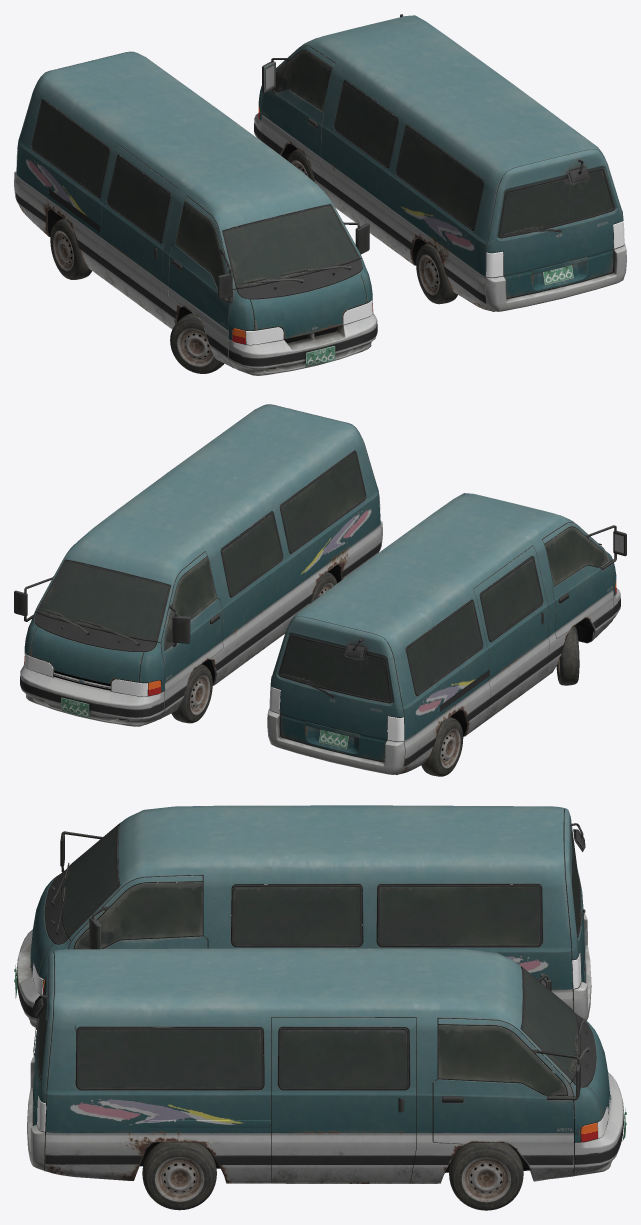
File: van.glb
3 views of the same model, one above another, from view 1: azimuth 30°, elevation 25°; view 2: azimuth 150°, elevation 25°; view 3: azimuth 270°, elevation 25° (orthographic). The views are drawn at different scales.
Parts seen in each view (by area): view 1: og.007_van.004_0, og.022_van02_0, og.009_van.004_0, og.023_van02_0, og.084_van.004_0, "g.003_st wh.003_0", g.003_TIRE.002_0, g.004_TIRE.002_0, g.010_TIRE.002_0, "og.007_glass white_0", "og.022_glass atlas_0", og.020_van02_0 (+2 smaller); view 2: og.022_van02_0, og.007_van.004_0, og.023_van02_0, og.009_van.004_0, g.003_TIRE.002_0, g.004_TIRE.002_0, og.020_van02_0, "og.022_glass white_0", og.084_van.004_0, g.015_TIRE.002_0, "og.007_glass atlas_0", "g.004_st wh.003_0" (+1 smaller); view 3: og.022_van02_0, og.007_van.004_0, og.023_van02_0, og.020_van02_0, g.015_TIRE.002_0, g.010_TIRE.002_0, "g.015_st wh.003_0", "g.010_st wh.003_0", og.084_van.004_0, og.021_van02_0.
Boxes of the visible parts, x1,y1,x2,y2 form: og.007_van.004_0: [14, 51, 377, 375]; og.022_van02_0: [254, 14, 626, 311]; og.009_van.004_0: [16, 193, 377, 366]; og.023_van02_0: [254, 123, 486, 303]; og.084_van.004_0: [33, 99, 369, 368]; "g.003_st wh.003_0": [177, 328, 214, 366]; g.003_TIRE.002_0: [170, 313, 224, 373]; g.004_TIRE.002_0: [50, 218, 91, 279]; g.010_TIRE.002_0: [416, 243, 457, 304]; "og.007_glass white_0": [246, 300, 372, 344]; "og.022_glass atlas_0": [486, 221, 624, 277]; og.020_van02_0: [276, 47, 624, 298]; og.022_van02_0: [14, 404, 382, 726]; og.007_van.004_0: [267, 493, 626, 774]; og.023_van02_0: [20, 542, 381, 717]; og.009_van.004_0: [404, 598, 620, 766]; g.003_TIRE.002_0: [556, 626, 579, 685]; g.004_TIRE.002_0: [421, 717, 463, 776]; og.020_van02_0: [27, 451, 363, 719]; "og.022_glass white_0": [24, 653, 147, 696]; og.084_van.004_0: [270, 522, 598, 762]; g.015_TIRE.002_0: [171, 664, 212, 723]; "og.007_glass atlas_0": [269, 686, 404, 741]; "g.004_st wh.003_0": [440, 728, 460, 768]; og.022_van02_0: [27, 948, 623, 1183]; og.007_van.004_0: [17, 805, 591, 1037]; og.023_van02_0: [45, 1103, 624, 1164]; og.020_van02_0: [38, 951, 607, 1182]; g.015_TIRE.002_0: [449, 1142, 523, 1210]; g.010_TIRE.002_0: [142, 1142, 216, 1210]; "g.015_st wh.003_0": [461, 1157, 510, 1202]; "g.010_st wh.003_0": [155, 1157, 204, 1201]; og.084_van.004_0: [33, 809, 579, 1010]; og.021_van02_0: [149, 1120, 270, 1127].
Bounding box in the file's own units: 5 × 1.97 × 5.44.
7 materials, 5 textured.
